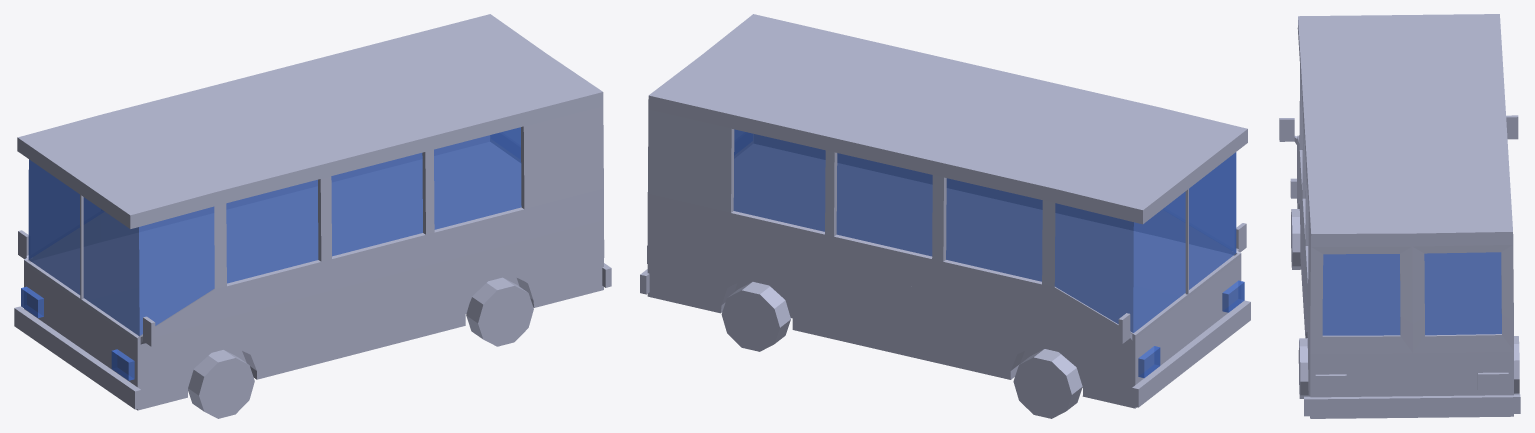
The model's file is Bus002.glb.
3 renders of one model, left to right at view 1: azimuth 30°, elevation 25°; view 2: azimuth 150°, elevation 25°; view 3: azimuth 270°, elevation 25°, orthographic. The views are drawn at different scales.
Visible parts, largest first — view 1: Bus.002; view 2: Bus.002; view 3: Bus.002.
Boxes of the visible parts, x1,y1,x2,y2 form: Bus.002: [14, 14, 611, 418]; Bus.002: [640, 14, 1250, 418]; Bus.002: [1279, 14, 1520, 418].
Size of the model in its own units: 2.58 by 1.12 by 1.18.
